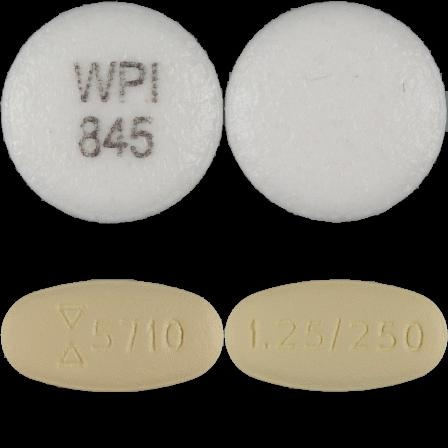35356-931: (0, 0, 224, 224)
